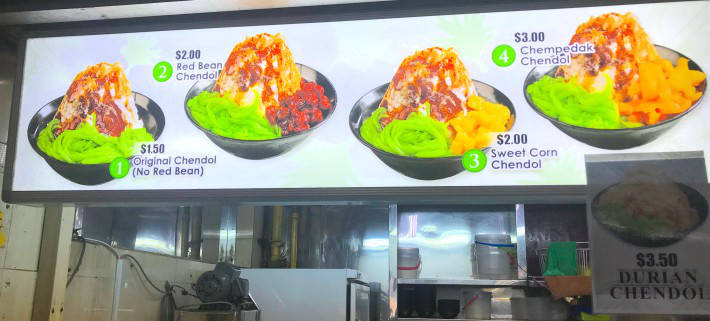Chendol: (534, 18, 703, 132), (29, 47, 158, 187), (202, 33, 336, 152), (363, 54, 513, 157)
